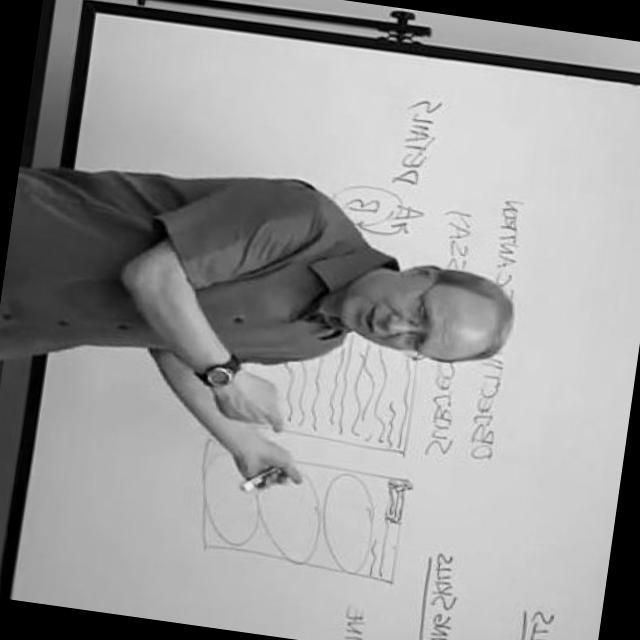Instructor: (32, 154, 526, 412)
White-board: (12, 7, 640, 640)
